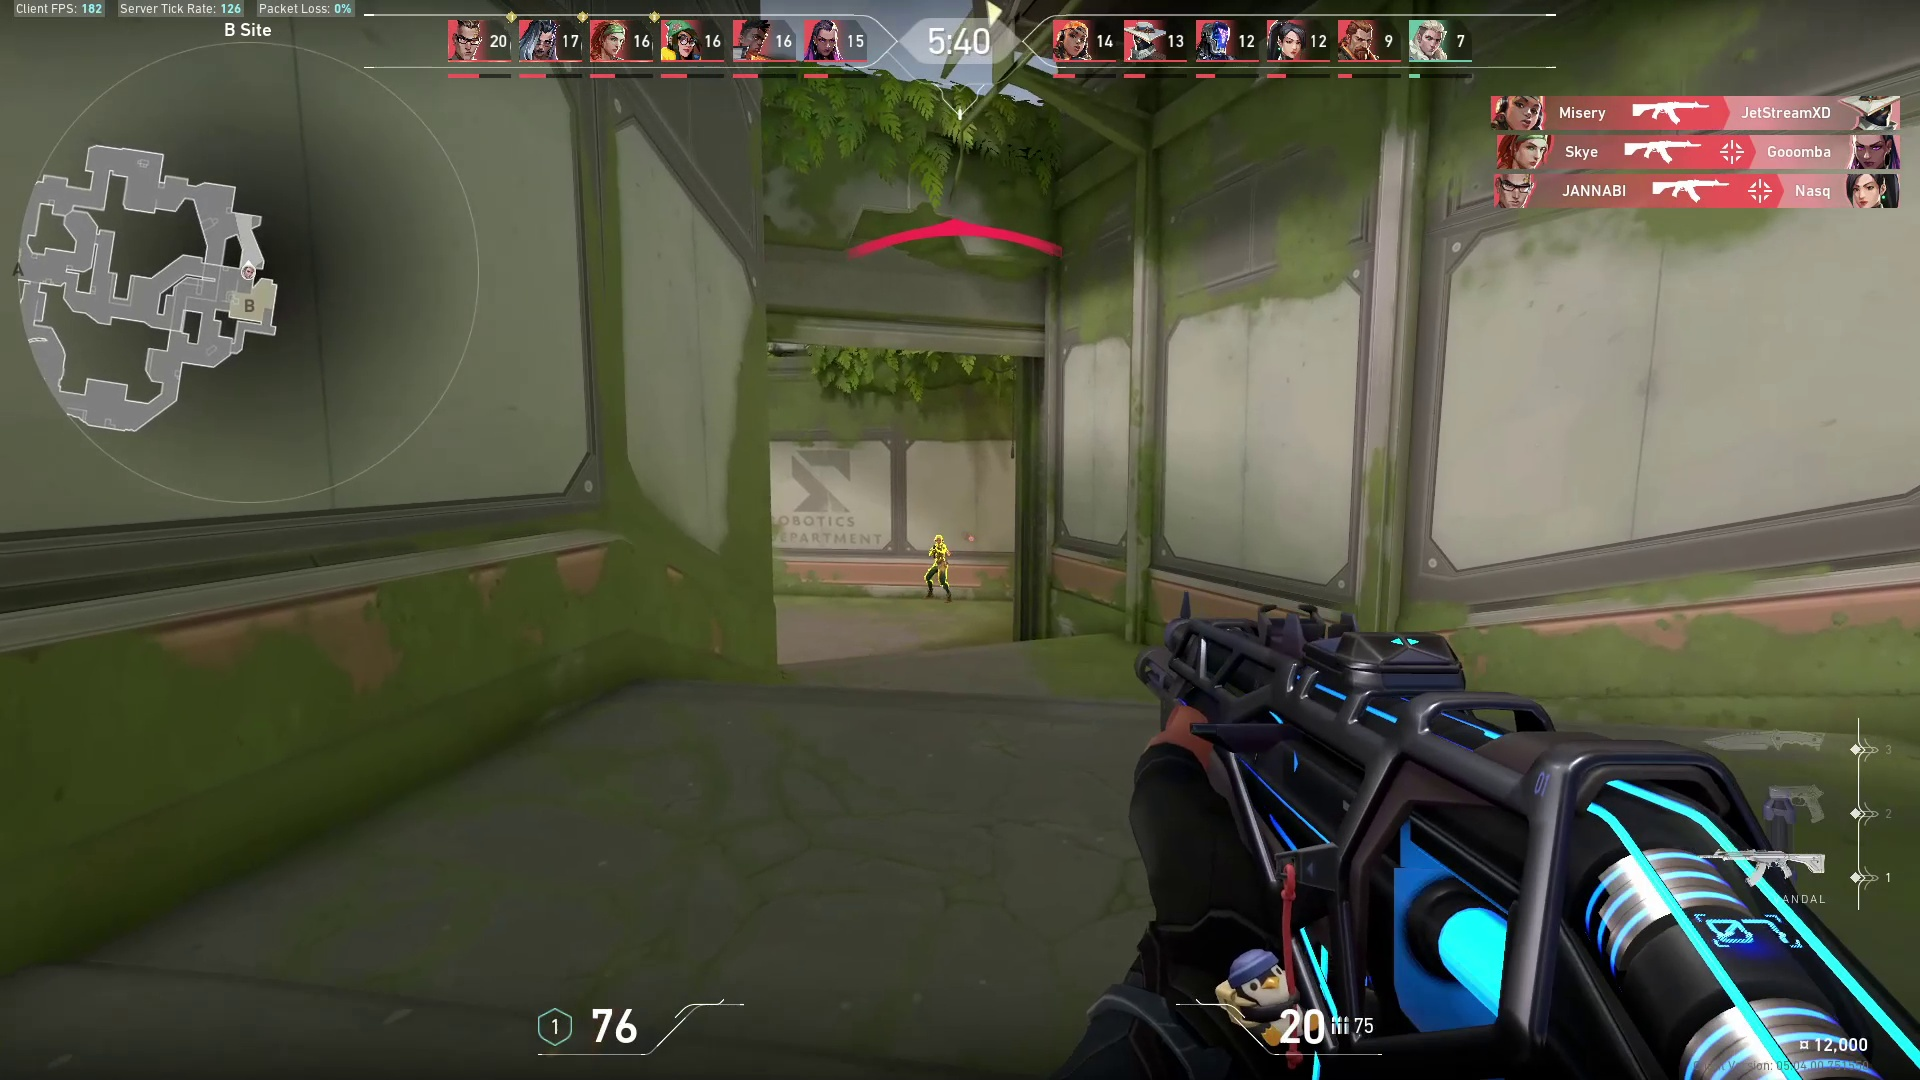enemy_body: (927, 546, 956, 605)
enemy_head: (932, 531, 945, 546)
